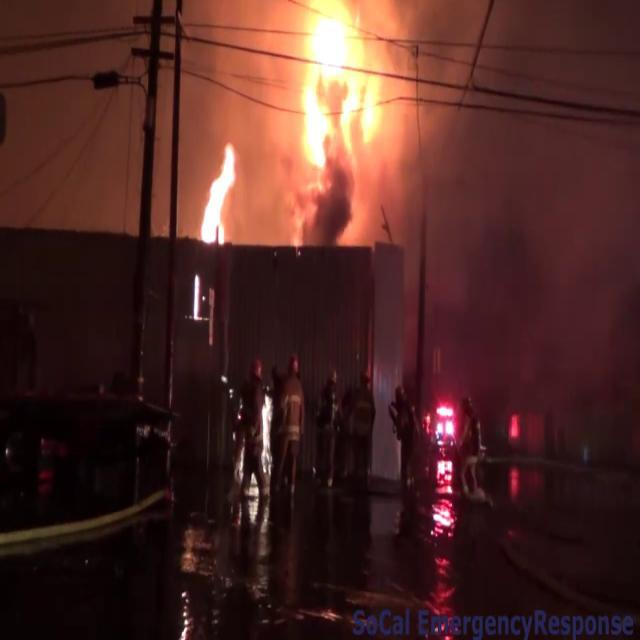Fire: (277, 2, 403, 175), (193, 134, 240, 246)
Smoke: (384, 0, 640, 386), (2, 0, 283, 211)
